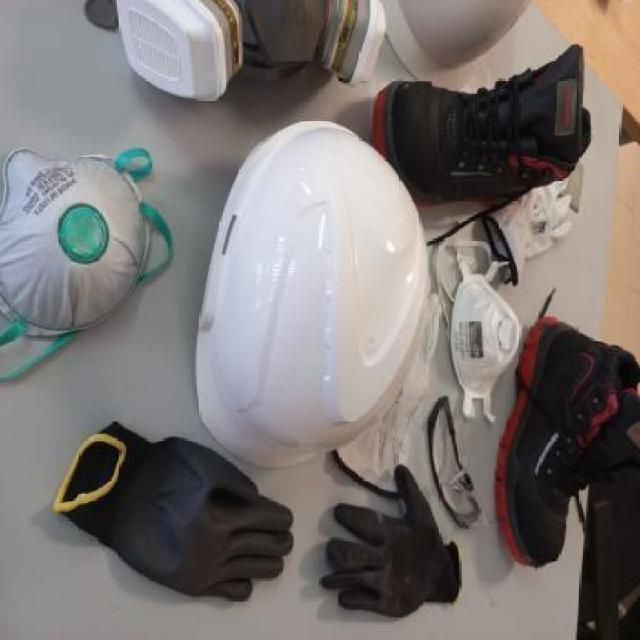gloves: (48, 423, 294, 614), (321, 462, 464, 630)
helmet: (180, 113, 434, 462)
